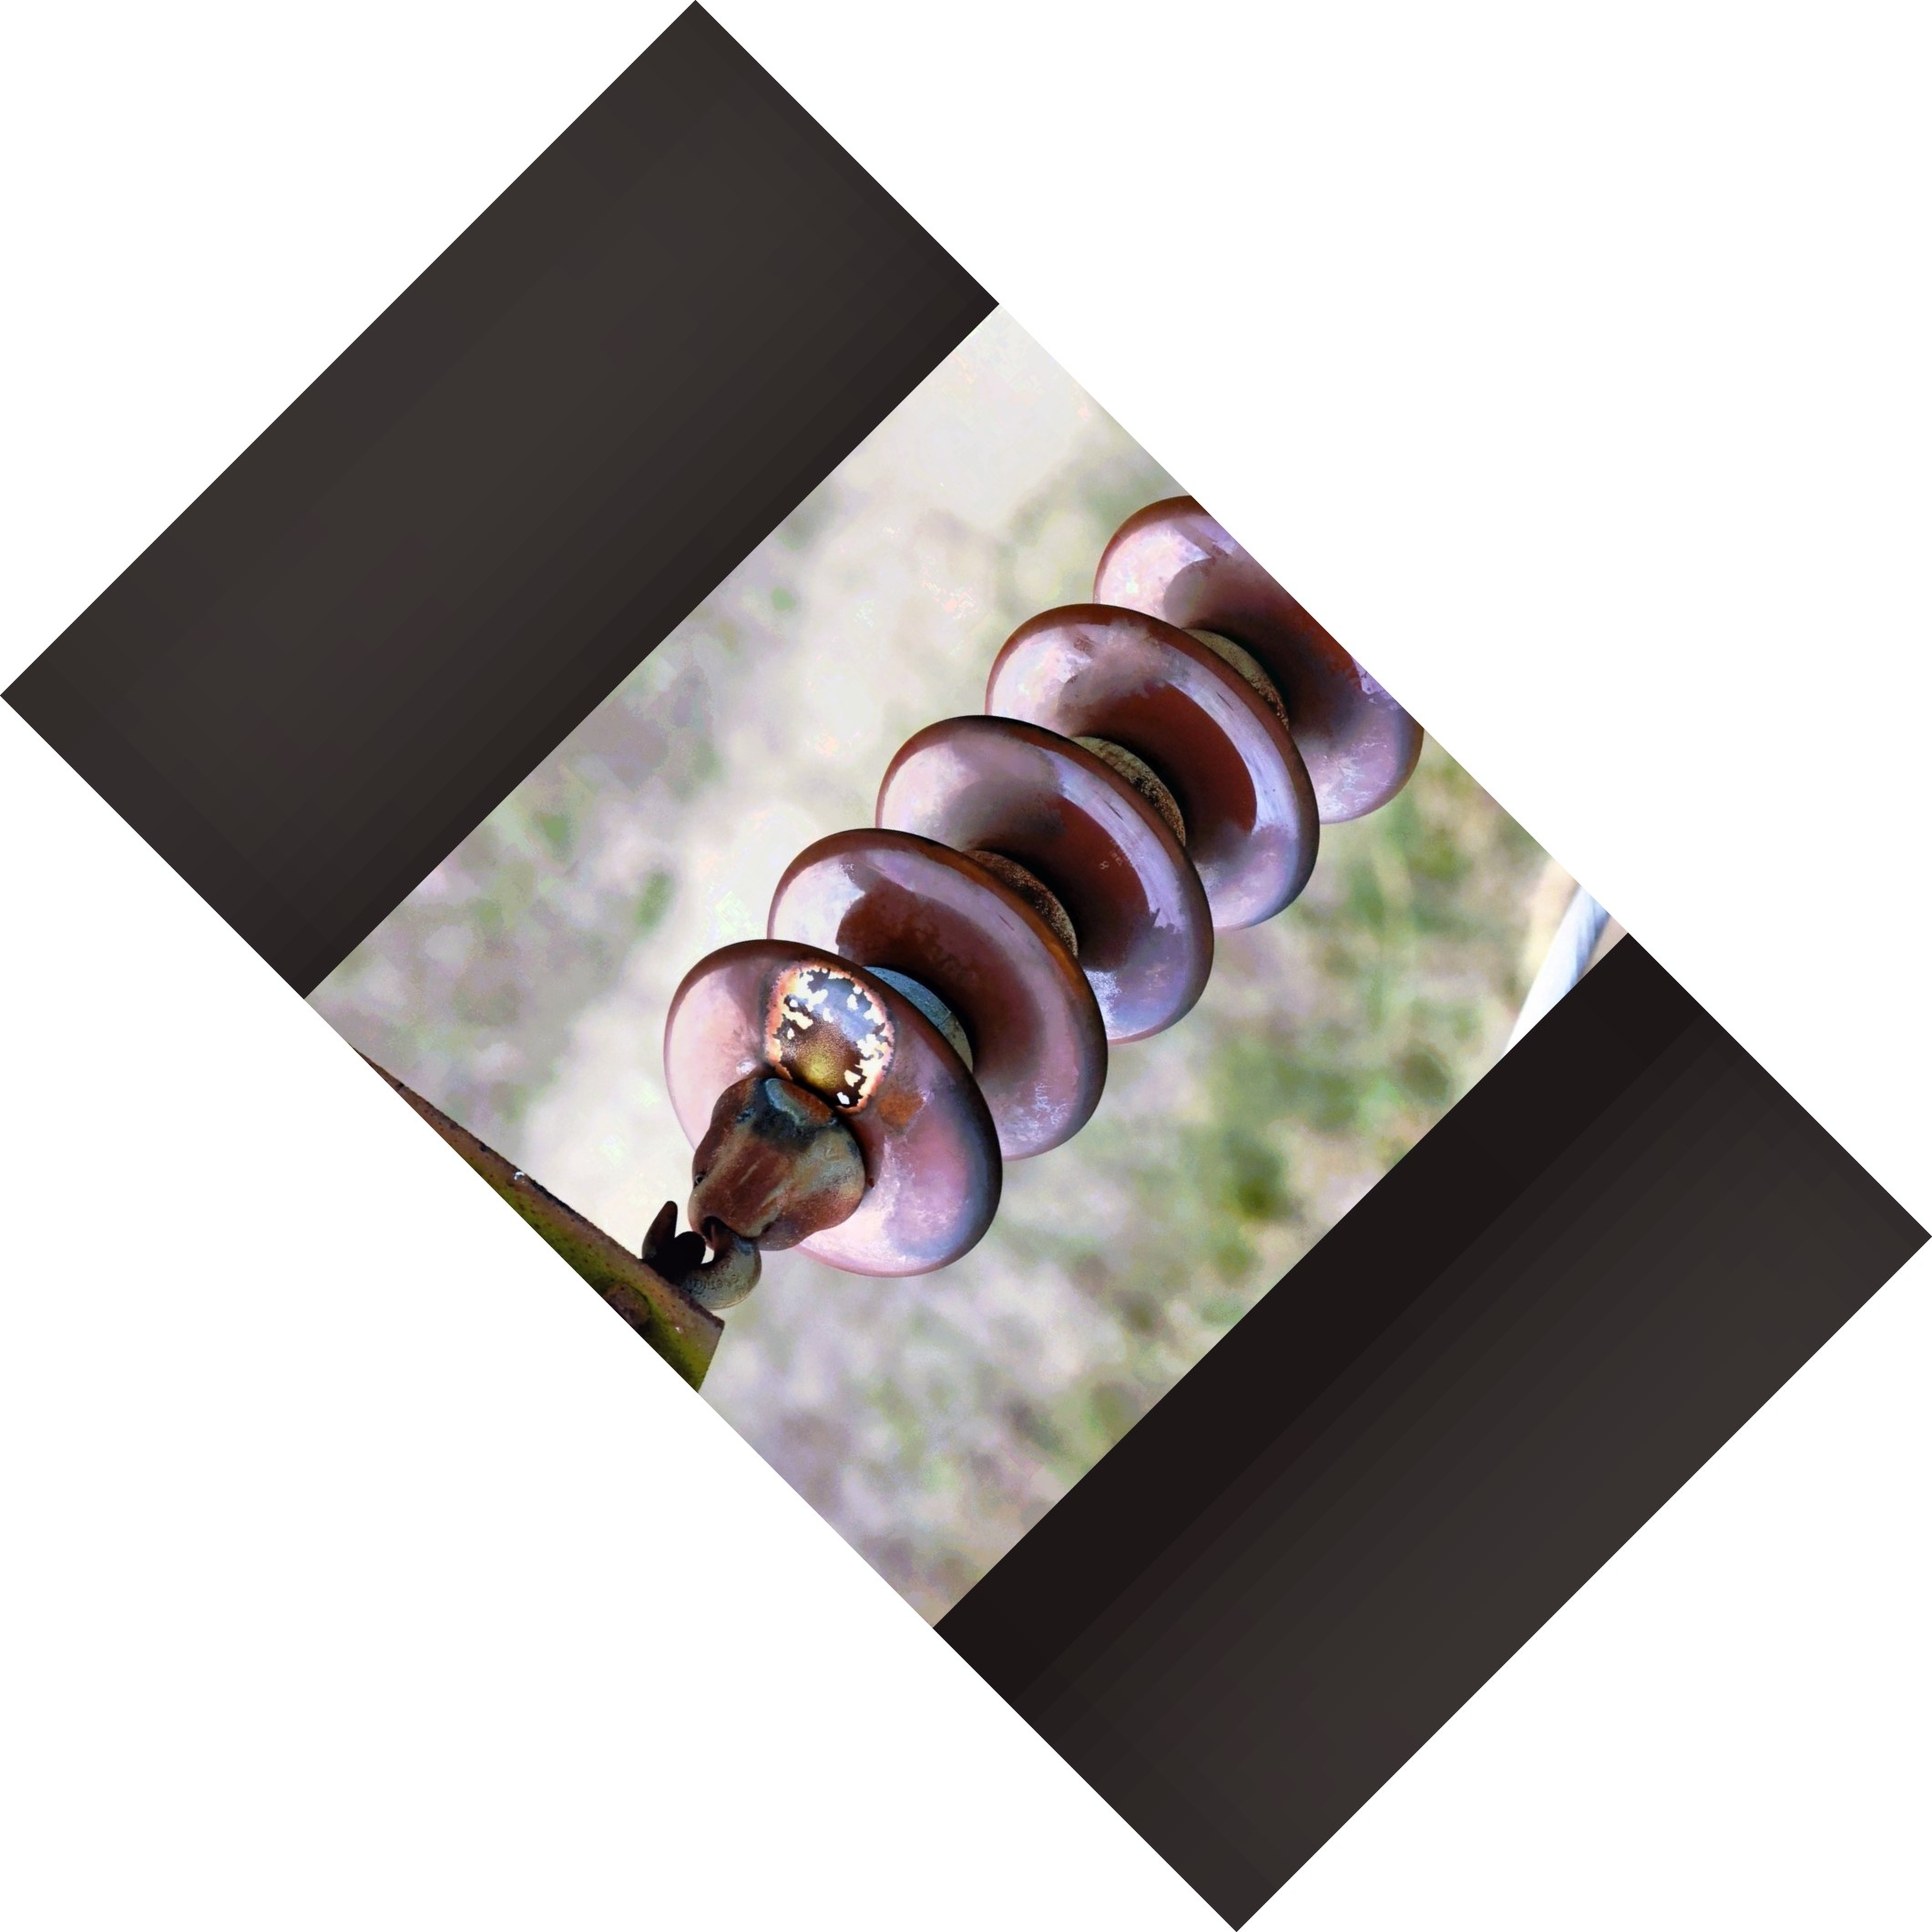Insulator flashover: (635, 909, 1021, 1325)
